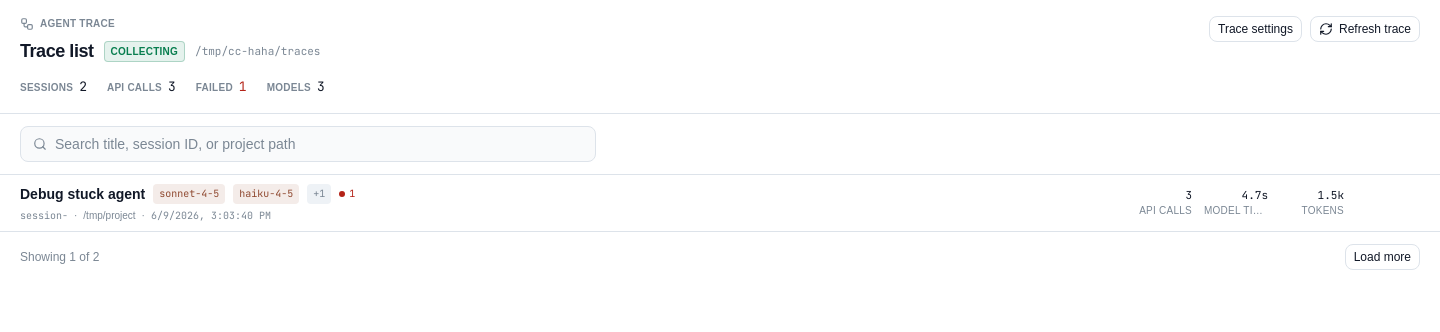
Test: TraceList › loads additional trace pages instead of fetching all rows at once
Expected: the text "Debug stuck agent" is shown, 20,183 -> 145,203
Expected: the text "Showing 1 of 2" is shown, 20,248 -> 99,264
Click the button "Load more".
click(1382, 256)  # box 1345,244 -> 1420,270
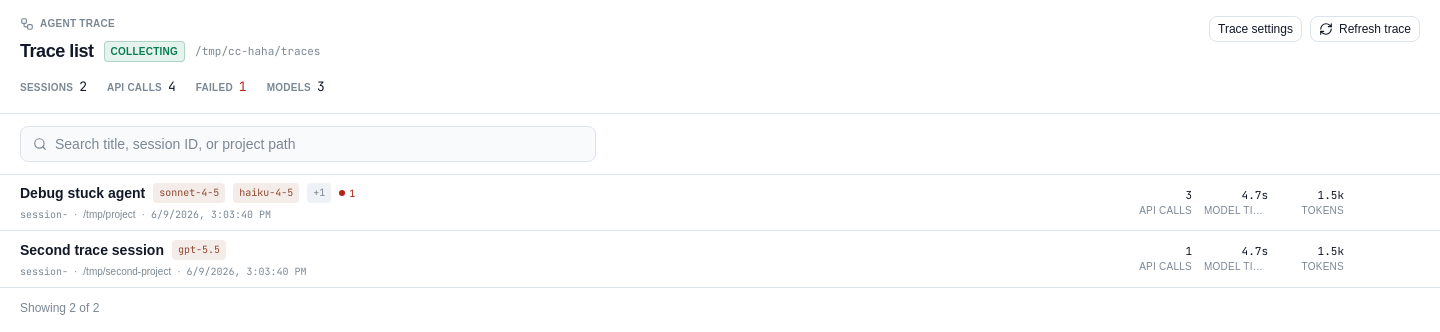
Expected: the text "Second trace session" is shown, 20,239 -> 164,259
Expected: the text "Showing 2 of 2" is shown, 20,300 -> 99,316
